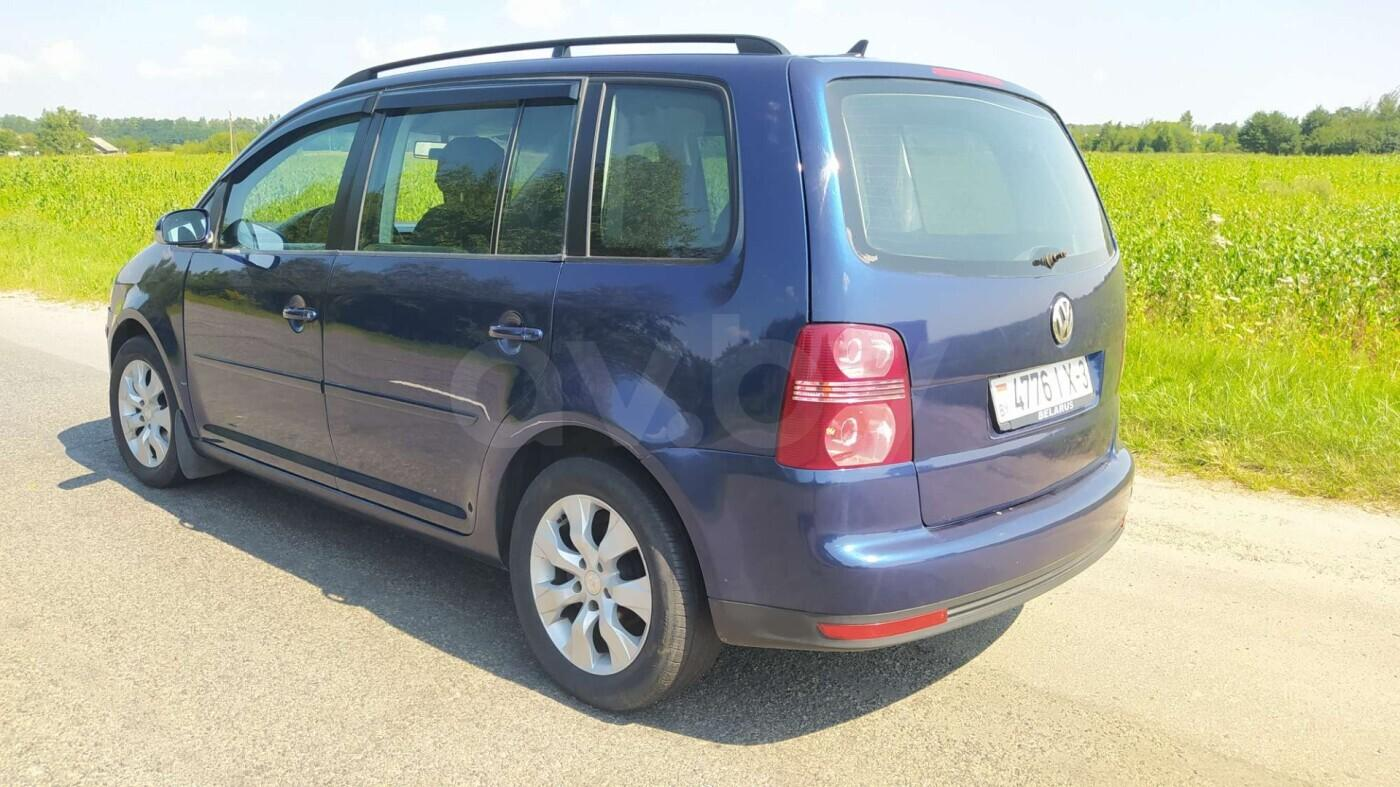Touran_2006-2010: (99, 47, 1137, 714)
